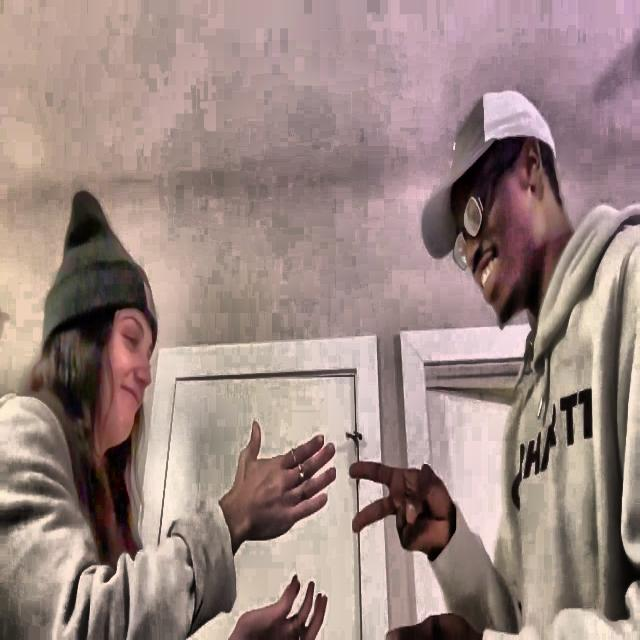not-gloved: (226, 419, 338, 548), (348, 461, 452, 564)
